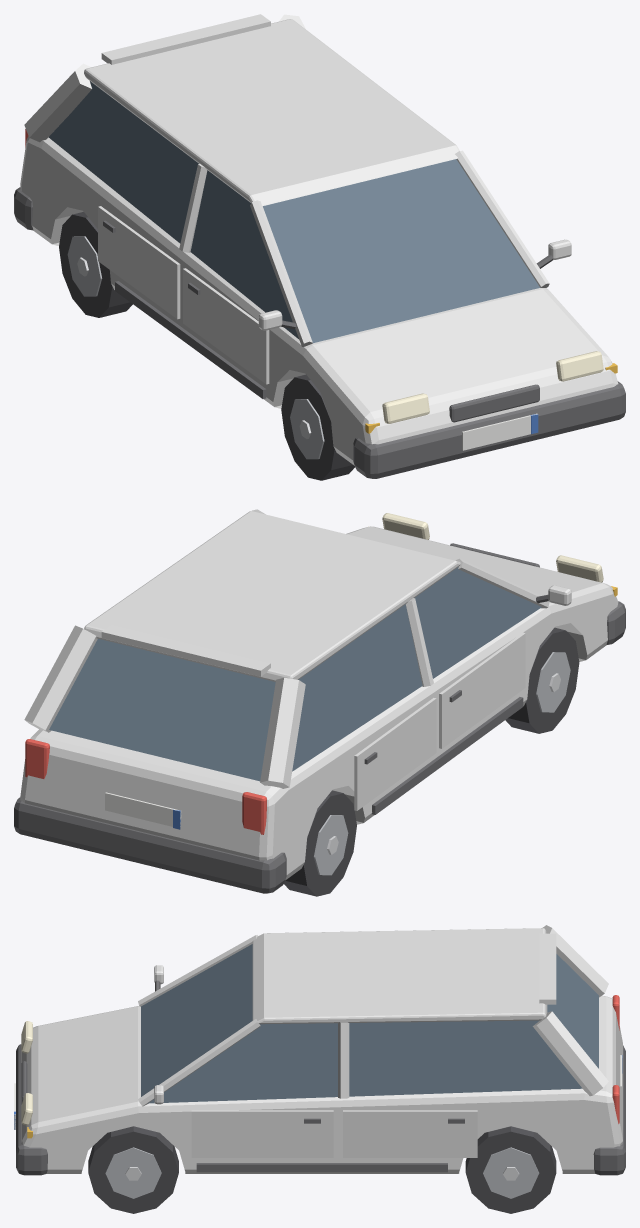
File: car-compact.glb
3 renders of one model, top to bottom at view 1: azimuth 30°, elevation 25°; view 2: azimuth 150°, elevation 25°; view 3: azimuth 270°, elevation 25°, orthographic. The views are drawn at different scales.
Visible parts, largest first — view 1: body, detach_bumper_front, detach_door_right, wheel-front-right, wheel-back-right; view 2: body, detach_bumper_back, detach_door_right, wheel-back-right, wheel-front-right, detach_bumper_front; view 3: body, detach_door_left, wheel-front-left, wheel-back-left, detach_bumper_front, detach_bumper_back.
Boxes of the visible parts, x1,y1,x2,y2 form: body: (20, 14, 618, 465); detach_bumper_front: (353, 381, 625, 478); detach_door_right: (183, 268, 269, 384); wheel-front-right: (281, 374, 354, 480); wheel-back-right: (59, 211, 132, 317); body: (20, 509, 618, 880); detach_bumper_back: (14, 797, 286, 893); detach_door_right: (439, 632, 525, 748); wheel-back-right: (284, 790, 356, 896); wheel-front-right: (505, 627, 579, 733); detach_bumper_front: (606, 601, 625, 644); body: (21, 925, 622, 1173); detach_door_left: (191, 1110, 333, 1157); wheel-front-left: (88, 1126, 178, 1213); wheel-back-left: (465, 1126, 556, 1213); detach_bumper_front: (14, 1044, 47, 1175); detach_bumper_back: (593, 1045, 625, 1175).
Bounding box in the file's own units: 2.14 × 1.53 × 4.31.
